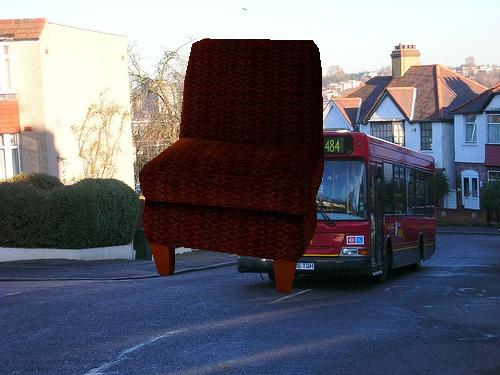tampered: (140, 39, 324, 294)
